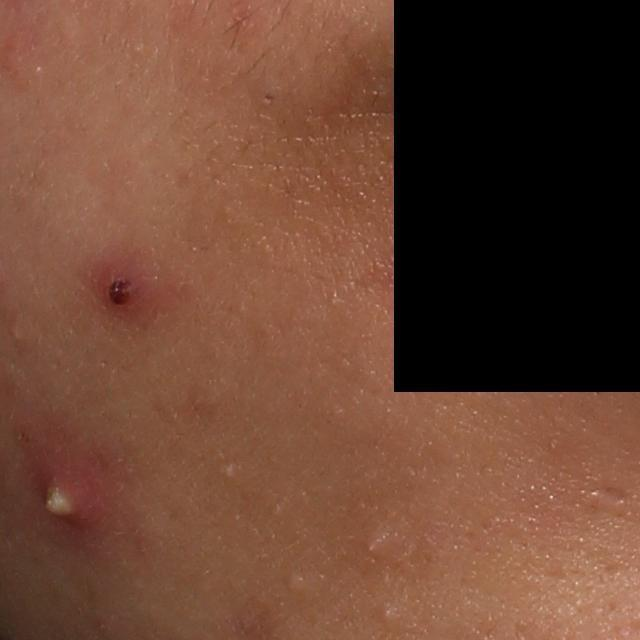atrophic_scar: (595, 482, 632, 506)
comedo: (279, 563, 310, 597), (362, 532, 386, 562), (380, 603, 398, 626), (221, 459, 236, 480)
papule: (88, 251, 156, 314)
pustule: (19, 427, 118, 548)
